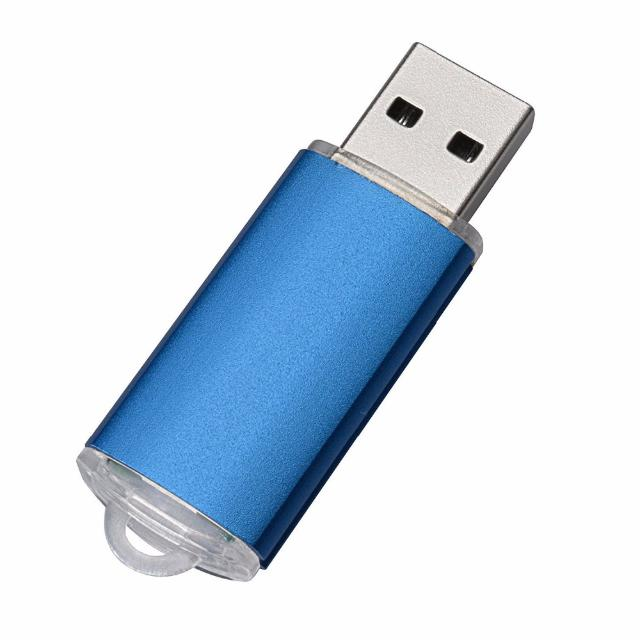USB-Flash-Drive: (48, 36, 552, 598)
